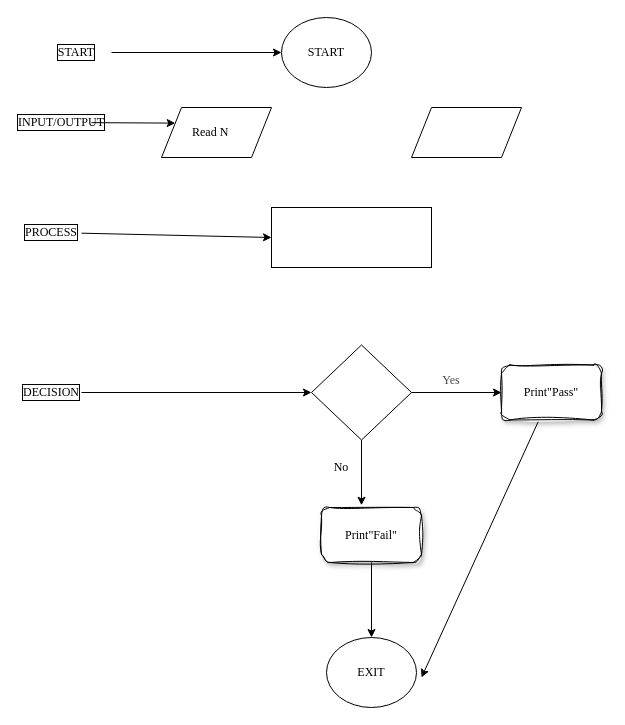
This 625x725 diagram has some shape labels left out. The shapes that lost their labels are listed below. From the top down, each one's centre as x and y in pixels, then its label:
(x=466, y=132): Printed "Hii"
(x=351, y=237): Name = "Gautam" a=10 b="30"
(x=361, y=392): IS marks >33
